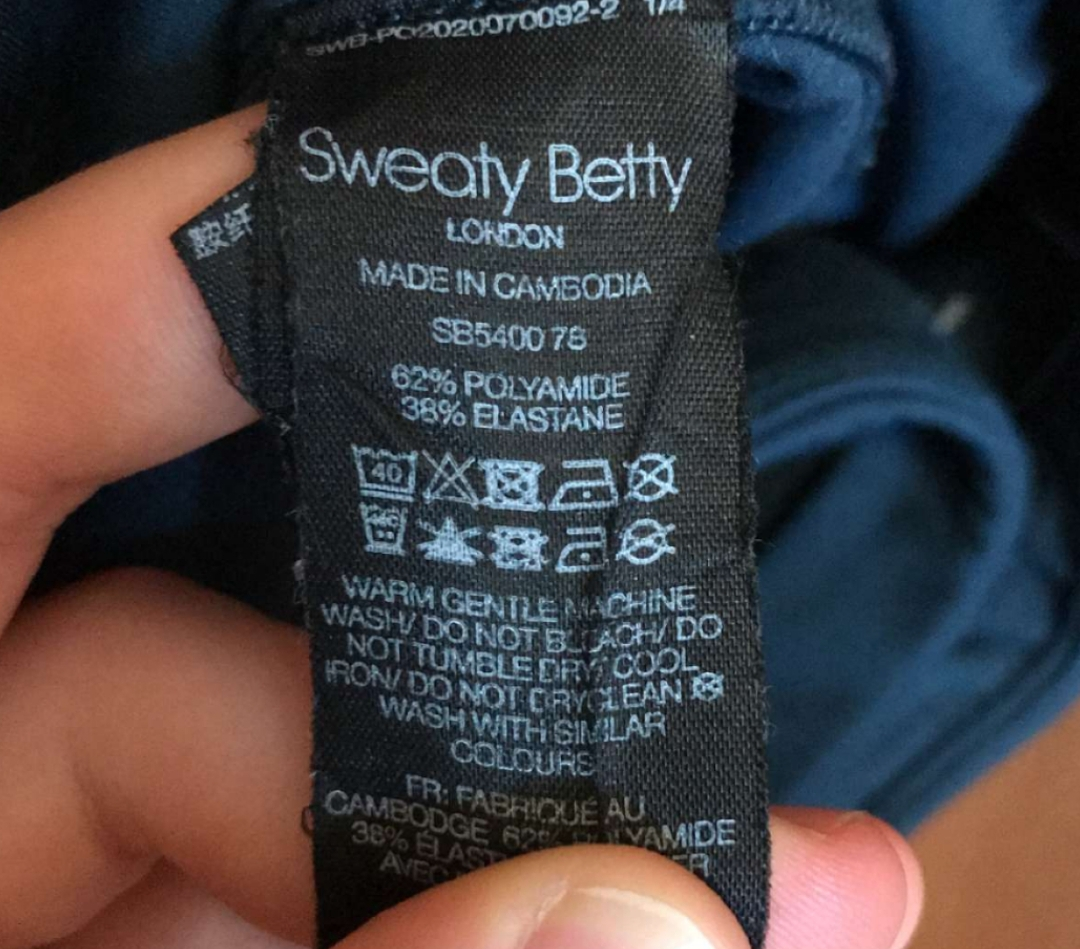do not bleach: (422, 436, 482, 519)
do not dry clean: (626, 449, 697, 506)
do not tumble dry: (478, 443, 549, 525)
iron low temp: (549, 447, 625, 524)
wash at or below 40: (343, 438, 428, 510)
